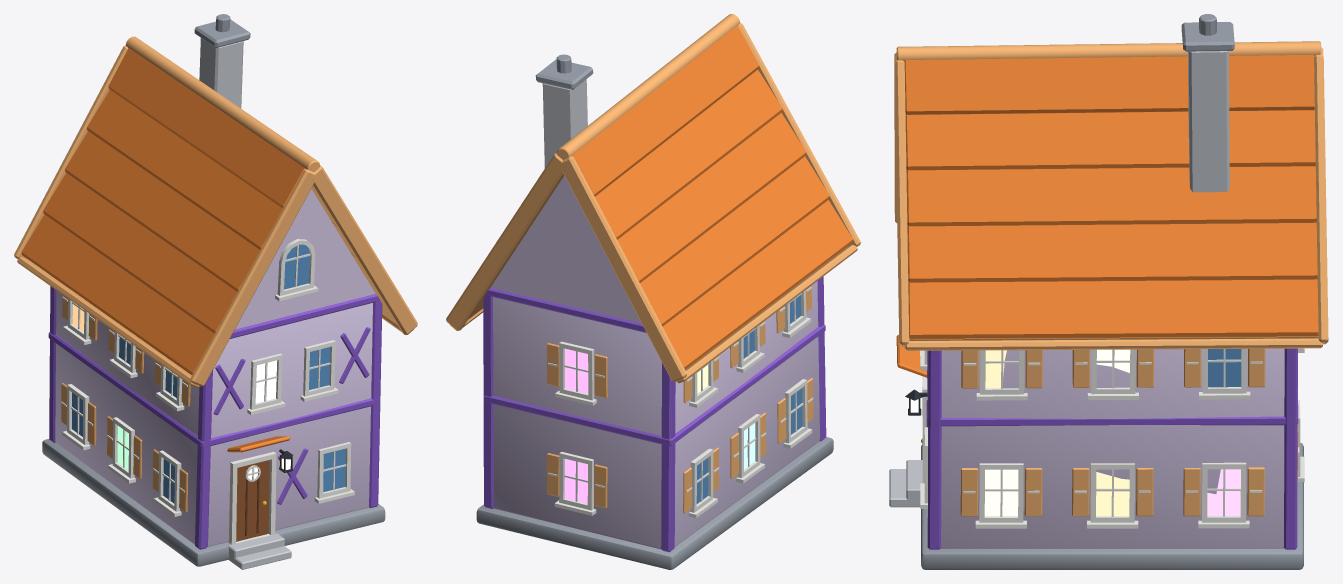
File: casa_estreita_enxaimel.glb
The picture shows the model from 3 angles, left to right: view 1: azimuth 30°, elevation 25°; view 2: azimuth 150°, elevation 25°; view 3: azimuth 270°, elevation 25°; orthographic projection. The views are drawn at different scales.
Visible parts, largest first — view 1: casa_estreita_enxaimel; view 2: casa_estreita_enxaimel; view 3: casa_estreita_enxaimel.
Boxes of the visible parts, x1,y1,x2,y2 form: casa_estreita_enxaimel: (14,14,417,569); casa_estreita_enxaimel: (446,14,860,569); casa_estreita_enxaimel: (889,14,1328,569).
Bounding box in the file's own units: 7.38 × 13.07 × 9.86.
Materials: 8 (1 with a texture image).
